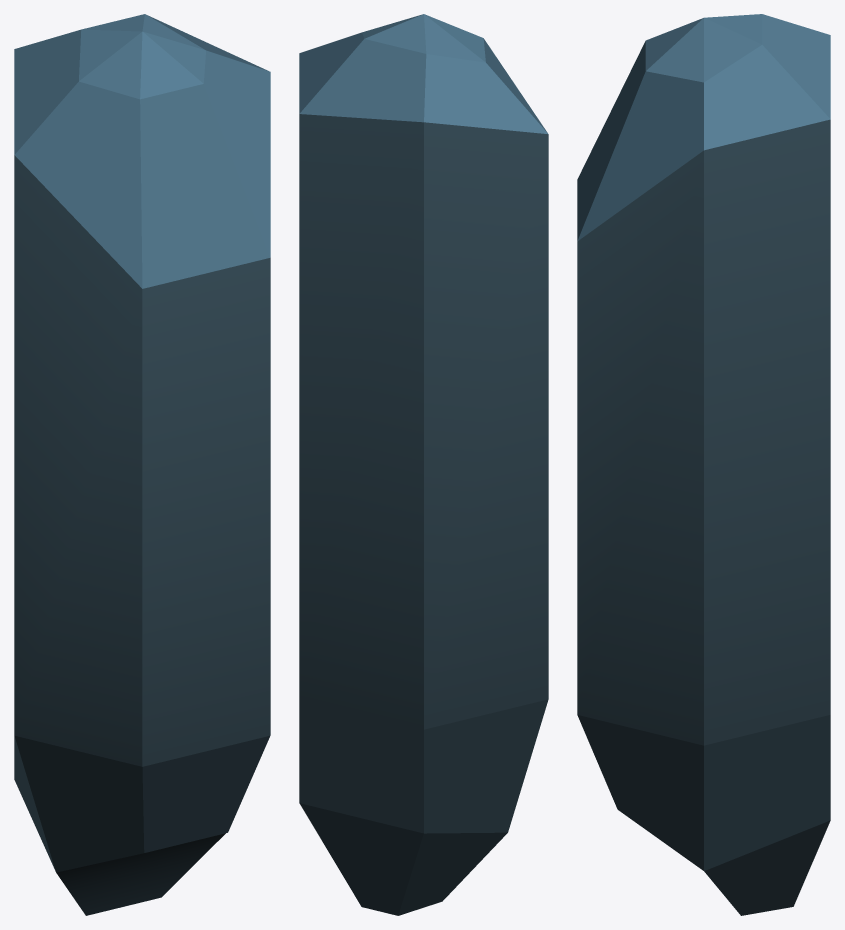
Rendered from geology-crystals-calcitecrystal_v3.fbx.
3 renders of one model, left to right at view 1: azimuth 30°, elevation 25°; view 2: azimuth 150°, elevation 25°; view 3: azimuth 270°, elevation 25°, orthographic. The views are drawn at different scales.
Parts seen in each view (by area): view 1: CalciteCrystal_v3; view 2: CalciteCrystal_v3; view 3: CalciteCrystal_v3.
Part boxes in pixels (<box>): CalciteCrystal_v3: <box>14,14,270,915</box>; CalciteCrystal_v3: <box>299,14,548,915</box>; CalciteCrystal_v3: <box>577,14,830,915</box>.
Bounding box in the file's own units: 2.01 × 6.67 × 1.74.
